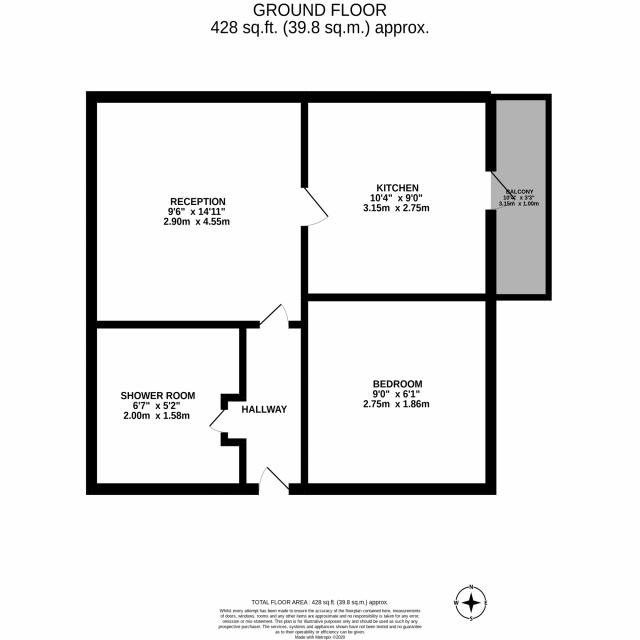DOOR: (485, 170, 518, 211), (300, 185, 331, 228), (258, 466, 290, 495), (258, 302, 290, 329), (207, 409, 228, 434)
ROOM: (86, 91, 331, 329), (300, 91, 517, 301), (300, 293, 498, 496)
